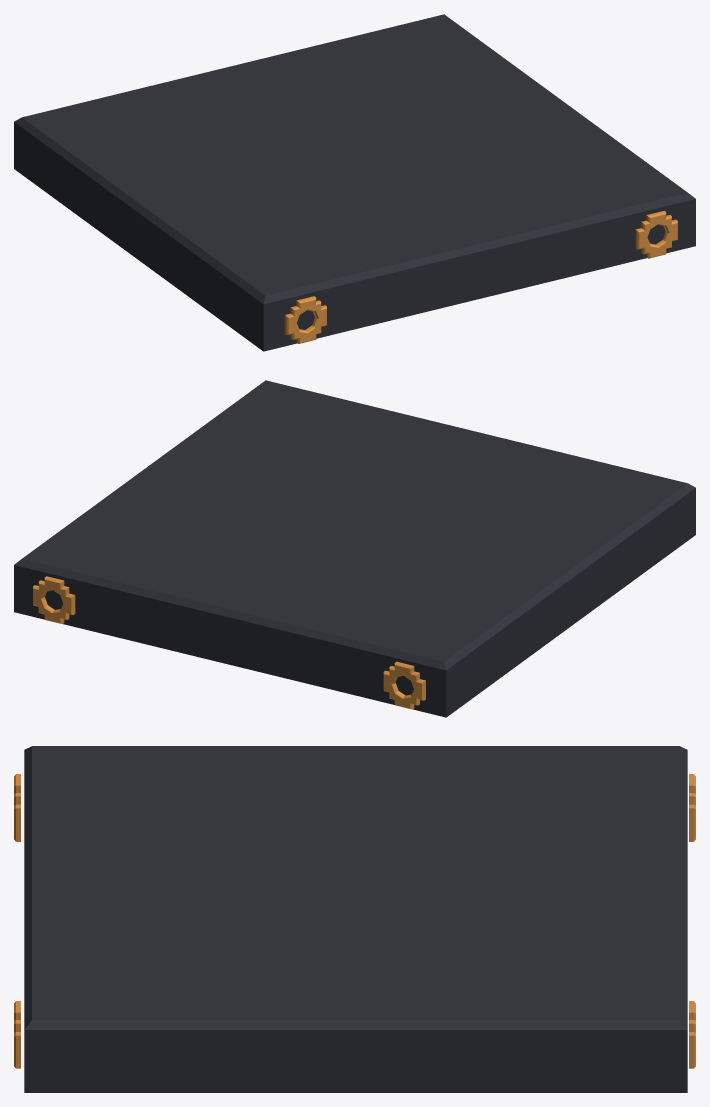
The model's file is Plataforma.glb.
3 renders of one model, top to bottom at view 1: azimuth 30°, elevation 25°; view 2: azimuth 150°, elevation 25°; view 3: azimuth 270°, elevation 25°, orthographic. The views are drawn at different scales.
Parts seen in each view (by area): view 1: Plataforma.002, Chakana Plataforma.001; view 2: Plataforma.002, Chakana Plataforma.001; view 3: Plataforma.002, Chakana Plataforma.001.
Boxes of the visible parts, x1,y1,x2,y2 form: Plataforma.002: (14,14,695,351); Chakana Plataforma.001: (284,211,677,343); Plataforma.002: (14,380,695,717); Chakana Plataforma.001: (33,576,425,709); Plataforma.002: (24,746,687,1092); Chakana Plataforma.001: (14,774,695,1068).
Bounding box in the file's own units: 0.8624 × 0.1 × 0.8869.
2 materials, 1 textured.
